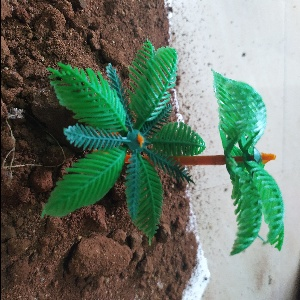plant: (30, 50, 181, 234), (202, 69, 292, 250)
